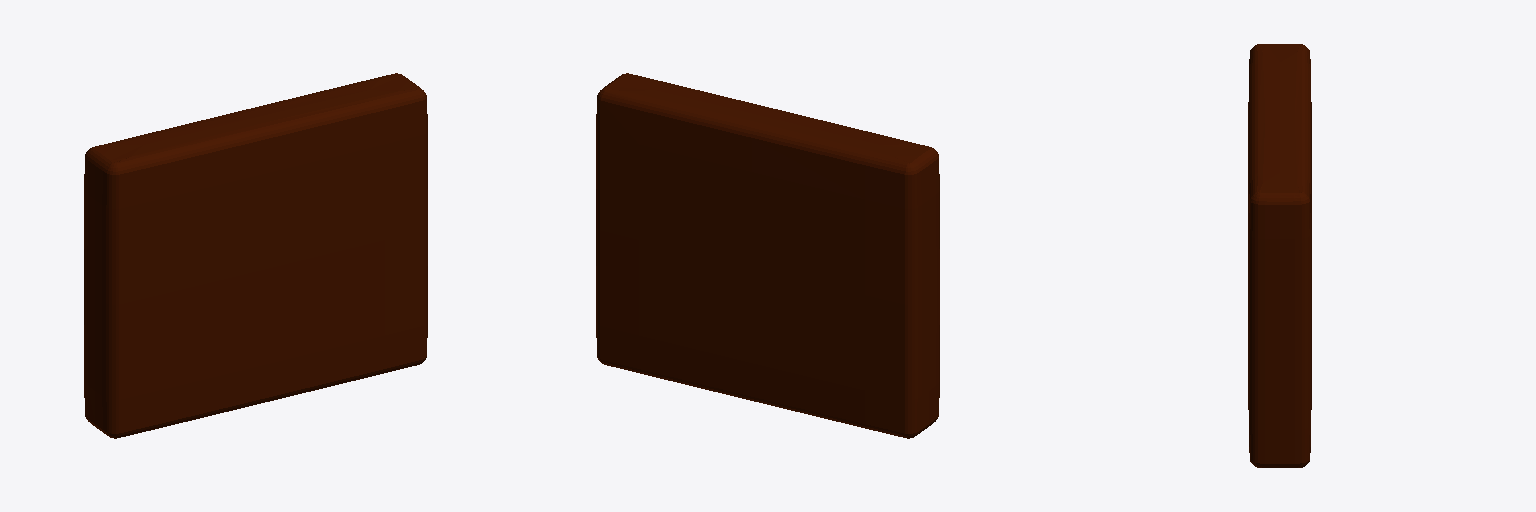
The model's file is player_bag.obj.
3 renders of one model, left to right at view 1: azimuth 30°, elevation 25°; view 2: azimuth 150°, elevation 25°; view 3: azimuth 270°, elevation 25°, orthographic.
Visible parts, largest first — view 1: ChamferBox002; view 2: ChamferBox002; view 3: ChamferBox002.
Part boxes in pixels (left/top/right/bottom): ChamferBox002: left=84, top=73, right=427, bottom=438; ChamferBox002: left=596, top=73, right=939, bottom=438; ChamferBox002: left=1248, top=44, right=1311, bottom=467.
Bounding box in the file's own units: 12.92 × 10.6 × 2.22.